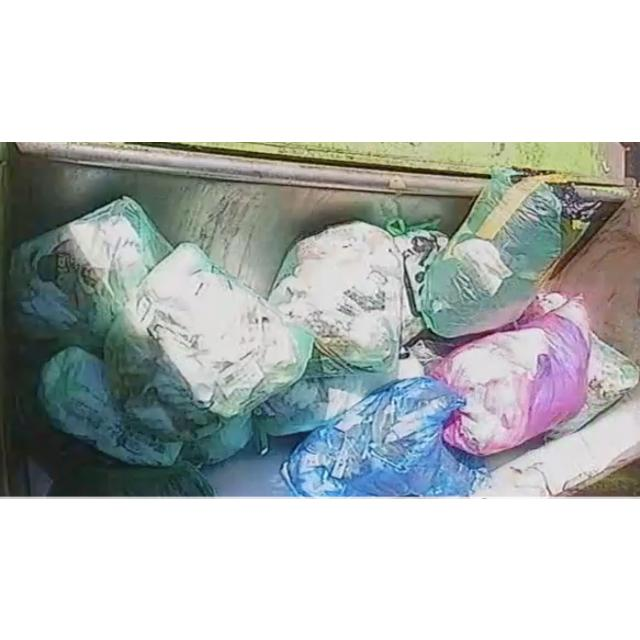general_trashbag: (104, 242, 314, 464), (420, 167, 601, 337), (10, 196, 172, 351), (269, 220, 402, 370), (38, 345, 182, 464), (385, 216, 449, 344), (630, 265, 630, 265)
other_trashbag: (431, 292, 590, 455), (281, 376, 486, 495)
